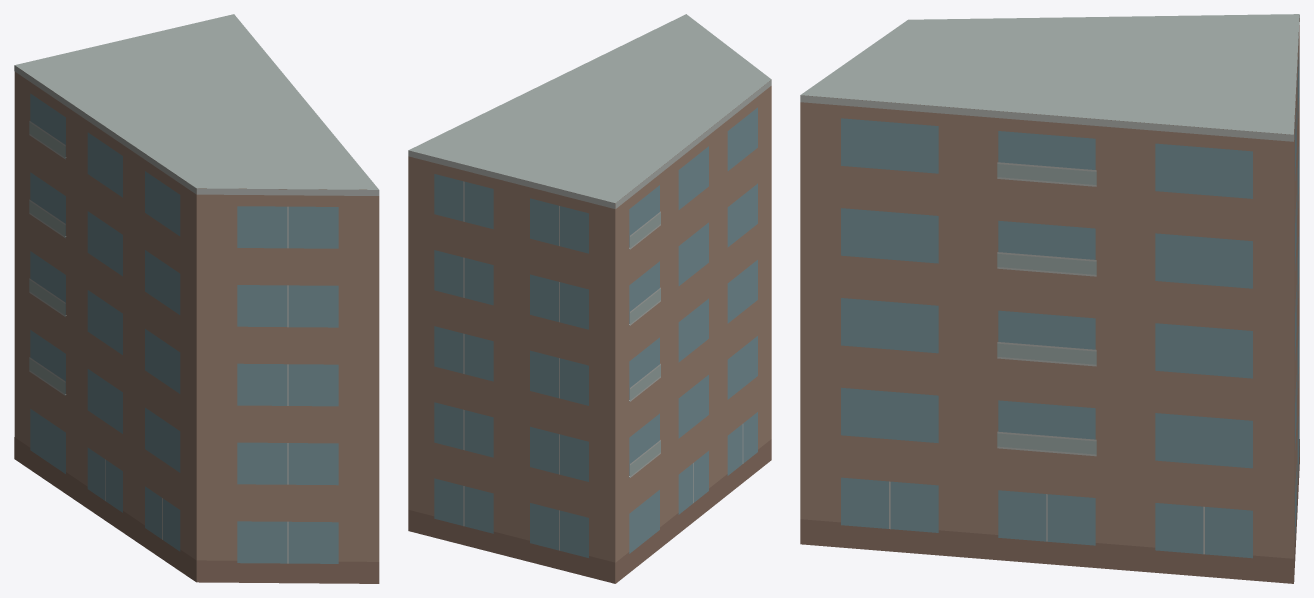
Rendered from survey-upis-32565083.glb.
3 renders of one model, left to right at view 1: azimuth 30°, elevation 25°; view 2: azimuth 150°, elevation 25°; view 3: azimuth 270°, elevation 25°, orthographic. The views are drawn at different scales.
Visible parts, largest first — view 1: survey-upis-32565083.tmp; view 2: survey-upis-32565083.tmp; view 3: survey-upis-32565083.tmp.
Part boxes in pixels (box(x1,y1,x2,y2)): survey-upis-32565083.tmp: box(14, 14, 379, 583); survey-upis-32565083.tmp: box(408, 14, 771, 583); survey-upis-32565083.tmp: box(800, 14, 1299, 583).
Size of the model in its own units: 8.92 by 15.45 by 15.58.
